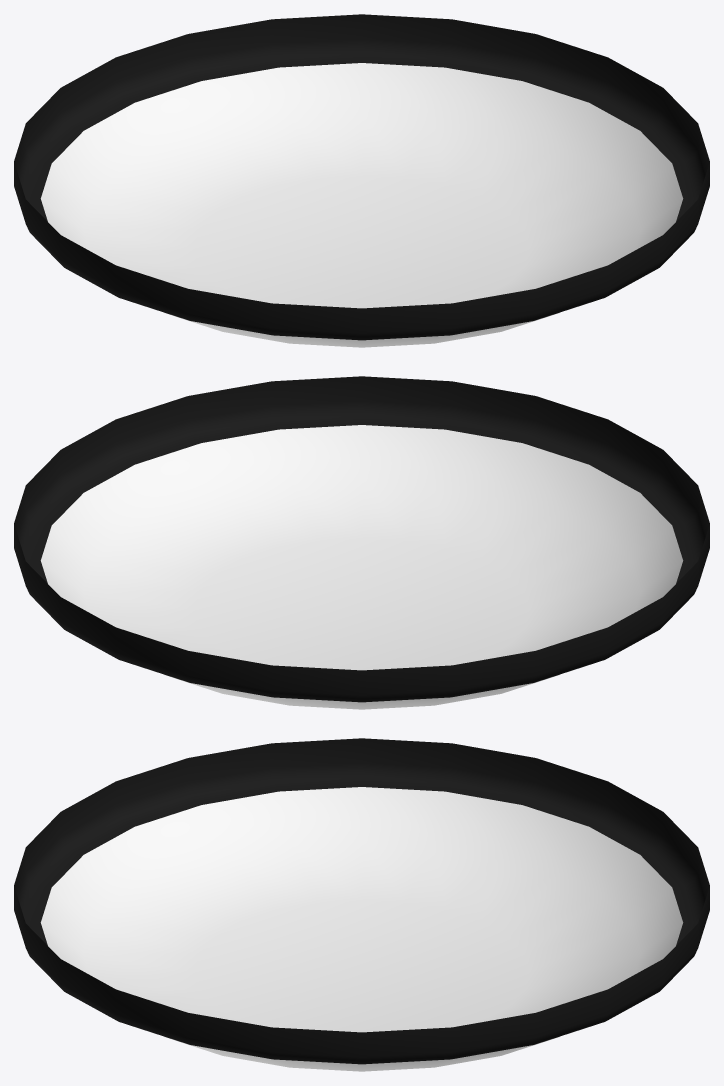
Rendered from Light_Ceiling.fbx.
3 renders of one model, top to bottom at view 1: azimuth 30°, elevation 25°; view 2: azimuth 150°, elevation 25°; view 3: azimuth 270°, elevation 25°, orthographic.
Parts seen in each view (by area): view 1: Light_Ceiling; view 2: Light_Ceiling; view 3: Light_Ceiling.
Part boxes in pixels (<box>): Light_Ceiling: <box>14,14,709,347</box>; Light_Ceiling: <box>14,376,709,709</box>; Light_Ceiling: <box>14,738,709,1071</box>.
Size of the model in its own units: 40.2 by 5.52 by 40.2.
